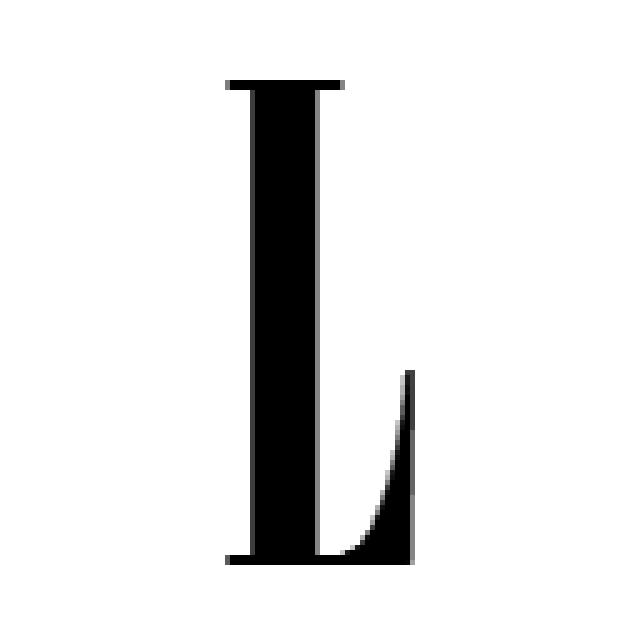L: (208, 78, 439, 564)
